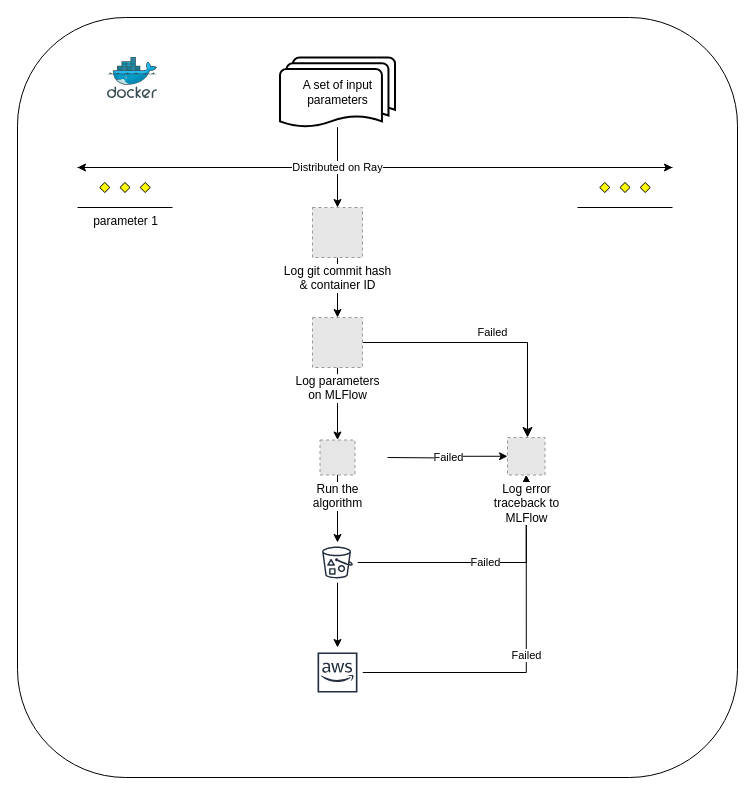
This 755x795 diagram has some shape labels left out. Grey dashed boxes stand in for pictures. The centre of each missing label's shape, as x and y in pixels:
parameter N: the point at 624,187
Save artifacts: the point at 337,562
Save dataframe to AWS: the point at 337,672
